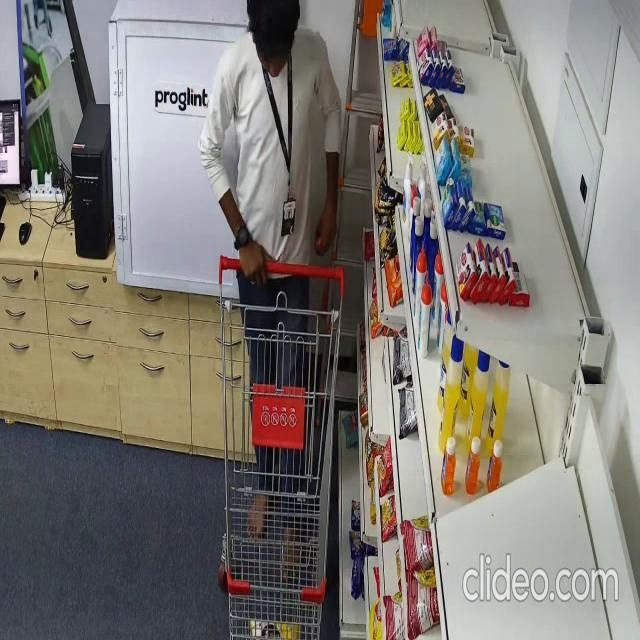Shoplifting: (199, 2, 344, 582)
